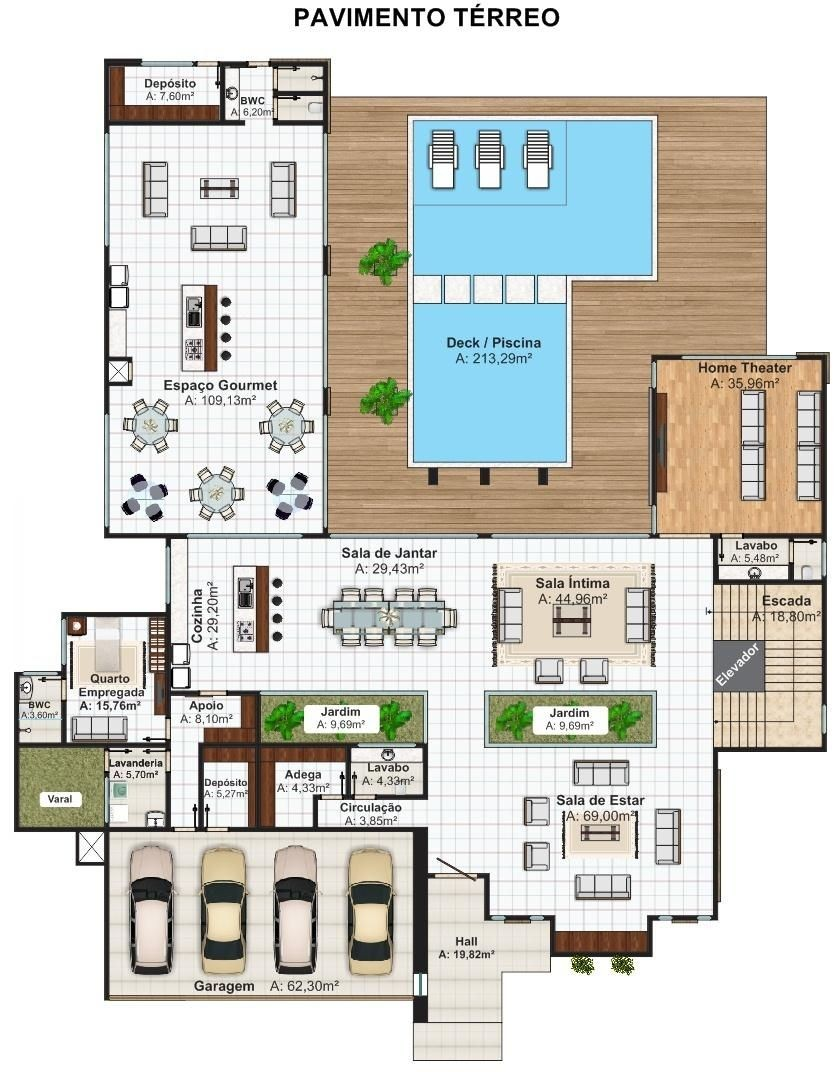room: (103, 120, 327, 538), (649, 351, 828, 539), (60, 611, 170, 748)
window: (413, 970, 429, 999)
